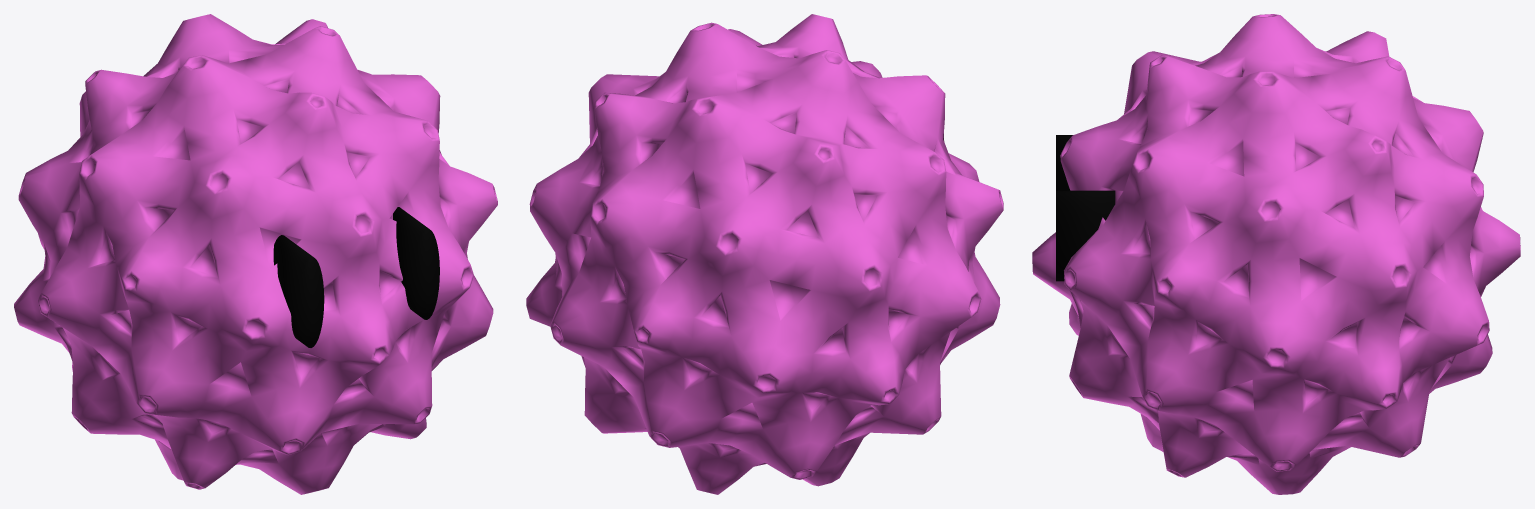
The model's file is PlayerCharacter.fbx.
3 renders of one model, left to right at view 1: azimuth 30°, elevation 25°; view 2: azimuth 150°, elevation 25°; view 3: azimuth 270°, elevation 25°, orthographic.
Parts seen in each view (by area): view 1: Icosphere, Cylinder.001; view 2: Icosphere; view 3: Icosphere, Cylinder.001.
Part boxes in pixels (box(x1,y1,x2,y2)): Icosphere: box(14, 14, 497, 494); Cylinder.001: box(273, 207, 439, 347); Icosphere: box(526, 14, 1003, 494); Icosphere: box(1032, 14, 1520, 494); Cylinder.001: box(1056, 135, 1115, 281).
Size of the model in its own units: 219 by 211 by 222.
